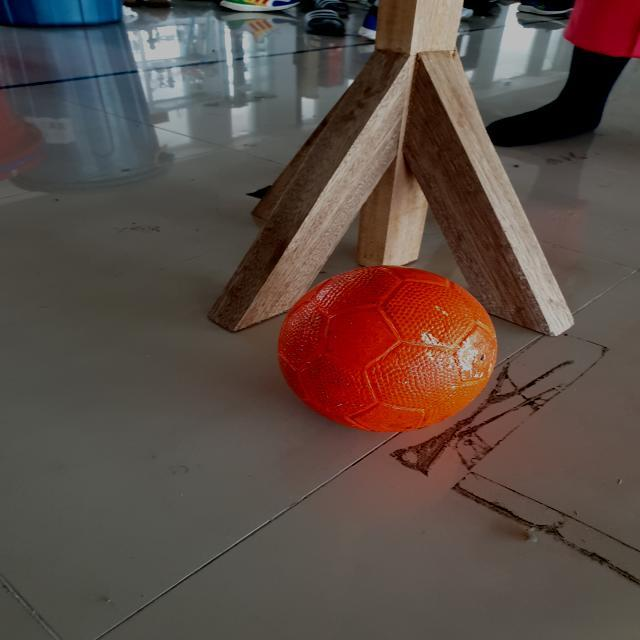bola: (276, 260, 514, 447)
